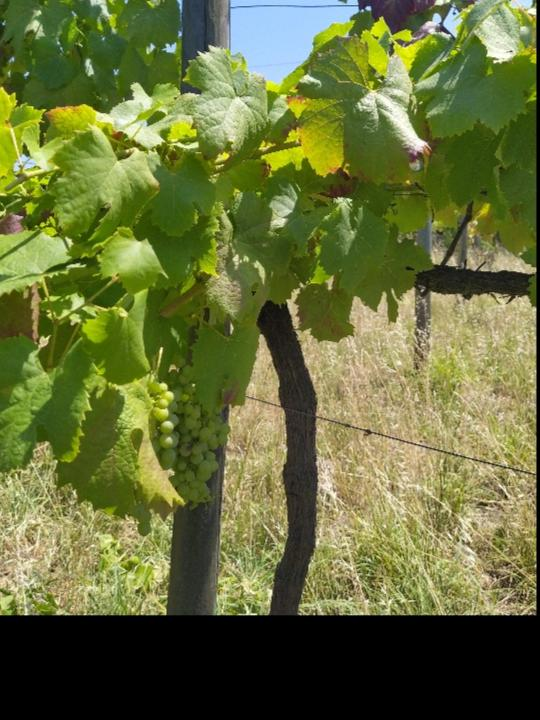grape: (148, 365, 236, 508)
